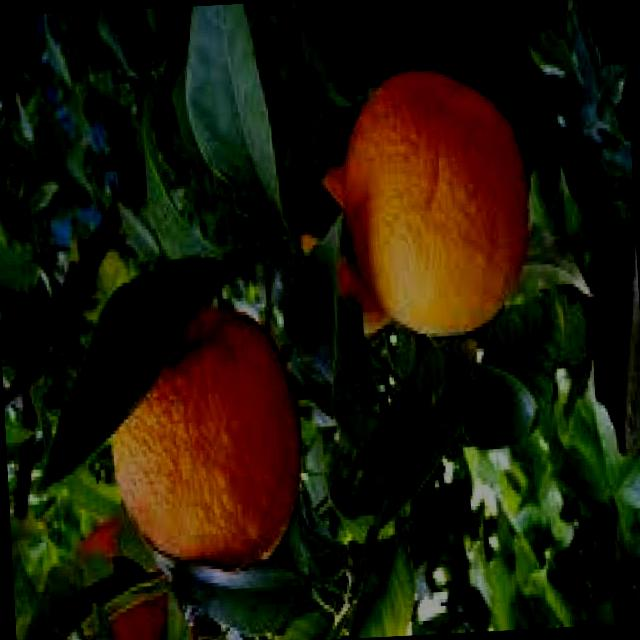Orange: (102, 305, 309, 581), (334, 66, 536, 346)
